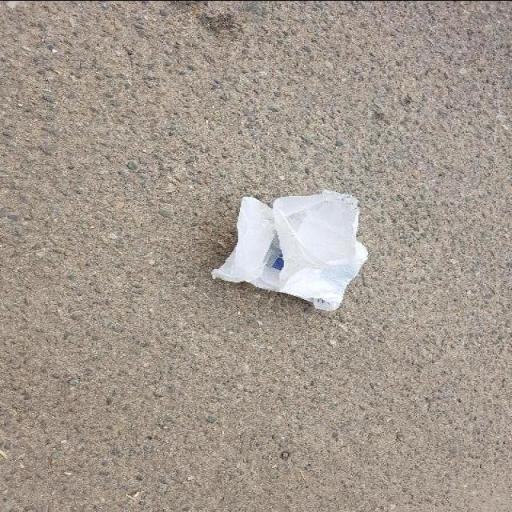plastic-bag: (207, 187, 372, 312)
